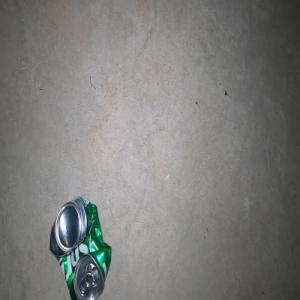SodaCan: (49, 196, 111, 300)
